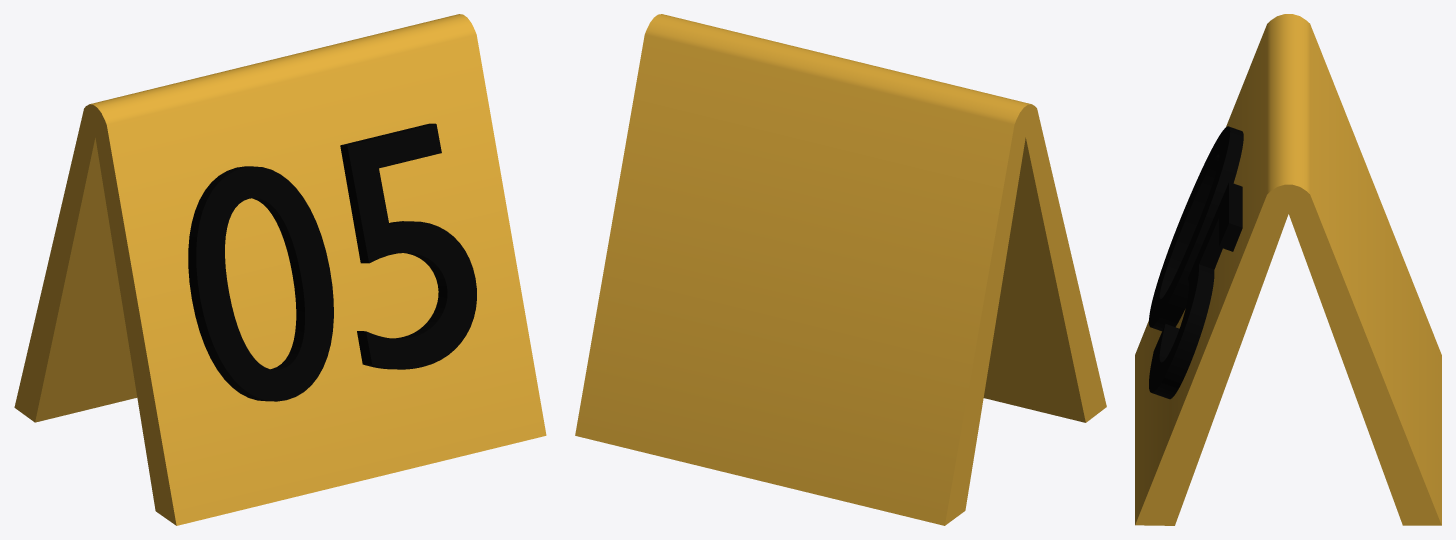
3 renders of one model, left to right at view 1: azimuth 30°, elevation 25°; view 2: azimuth 150°, elevation 25°; view 3: azimuth 270°, elevation 25°, orthographic. The views are drawn at different scales.
Parts seen in each view (by area): view 1: Bordje, Text.004; view 2: Bordje; view 3: Bordje, Text.004.
Part boxes in pixels (x1,y1,x2,y2): Bordje: (14,14,546,525); Text.004: (188,123,476,401); Bordje: (575,14,1106,525); Bordje: (1135,14,1441,525); Text.004: (1149,126,1243,399).
Size of the model in its own units: 342 by 319 by 260.
